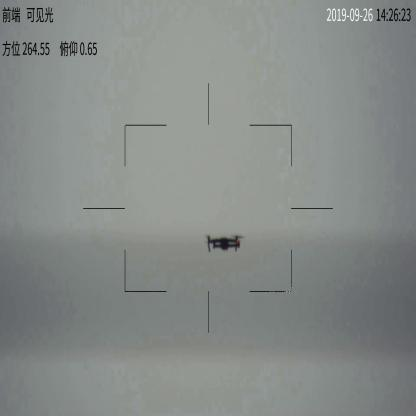uav: (201, 232, 246, 256)
